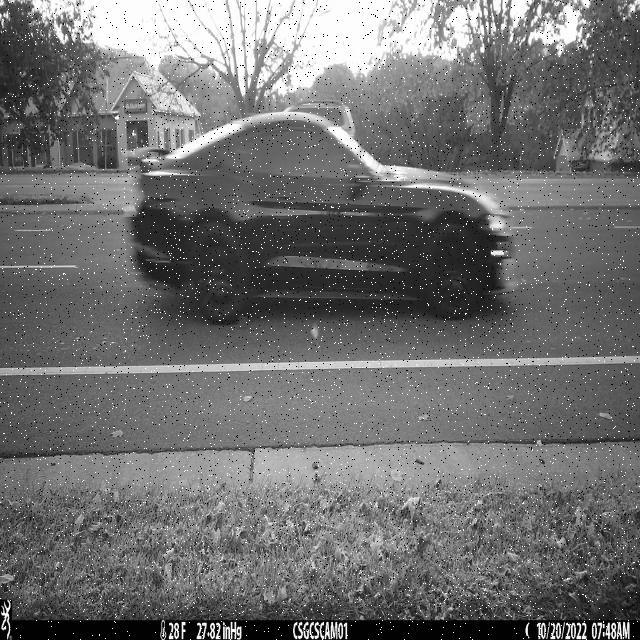Sedan: (121, 111, 523, 325)
